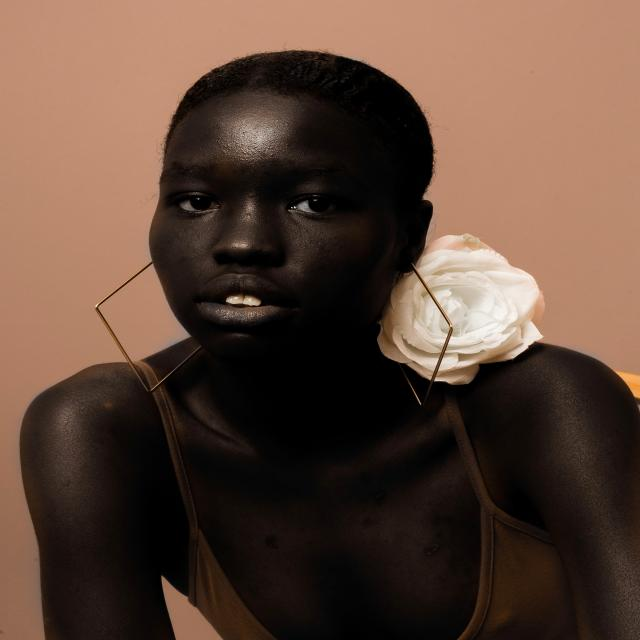adult: (13, 53, 640, 639)
